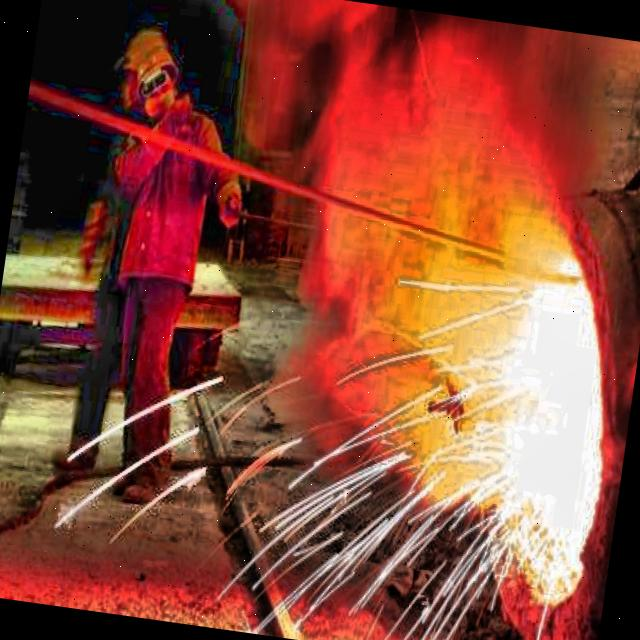helmet: (131, 46, 187, 129), (115, 24, 163, 110)
